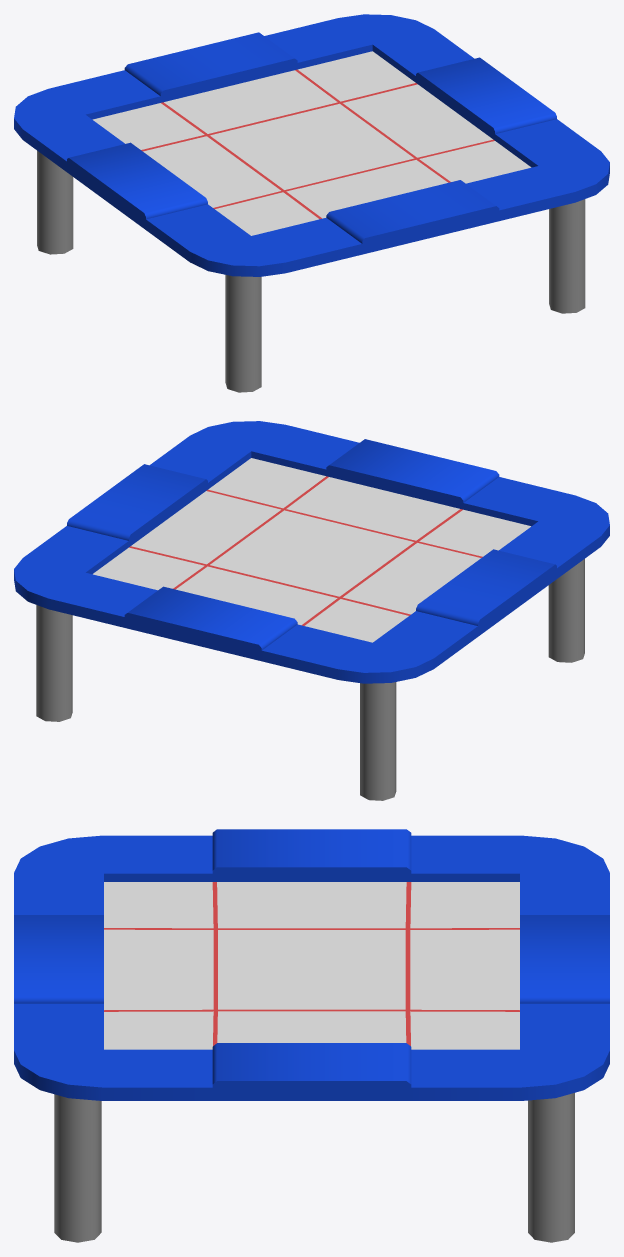
File: trampoline.fbx
3 views of the same model, one above another, from view 1: azimuth 30°, elevation 25°; view 2: azimuth 150°, elevation 25°; view 3: azimuth 270°, elevation 25° (orthographic). The views are drawn at different scales.
Parts seen in each view (by area): view 1: trampoline; view 2: trampoline; view 3: trampoline.
Part boxes in pixels (box(x1,y1,x2,y2)): trampoline: box(14, 14, 609, 392); trampoline: box(14, 421, 609, 800); trampoline: box(14, 829, 609, 1242).
Bounding box in the file's own units: 3.99 × 1.32 × 3.99.
